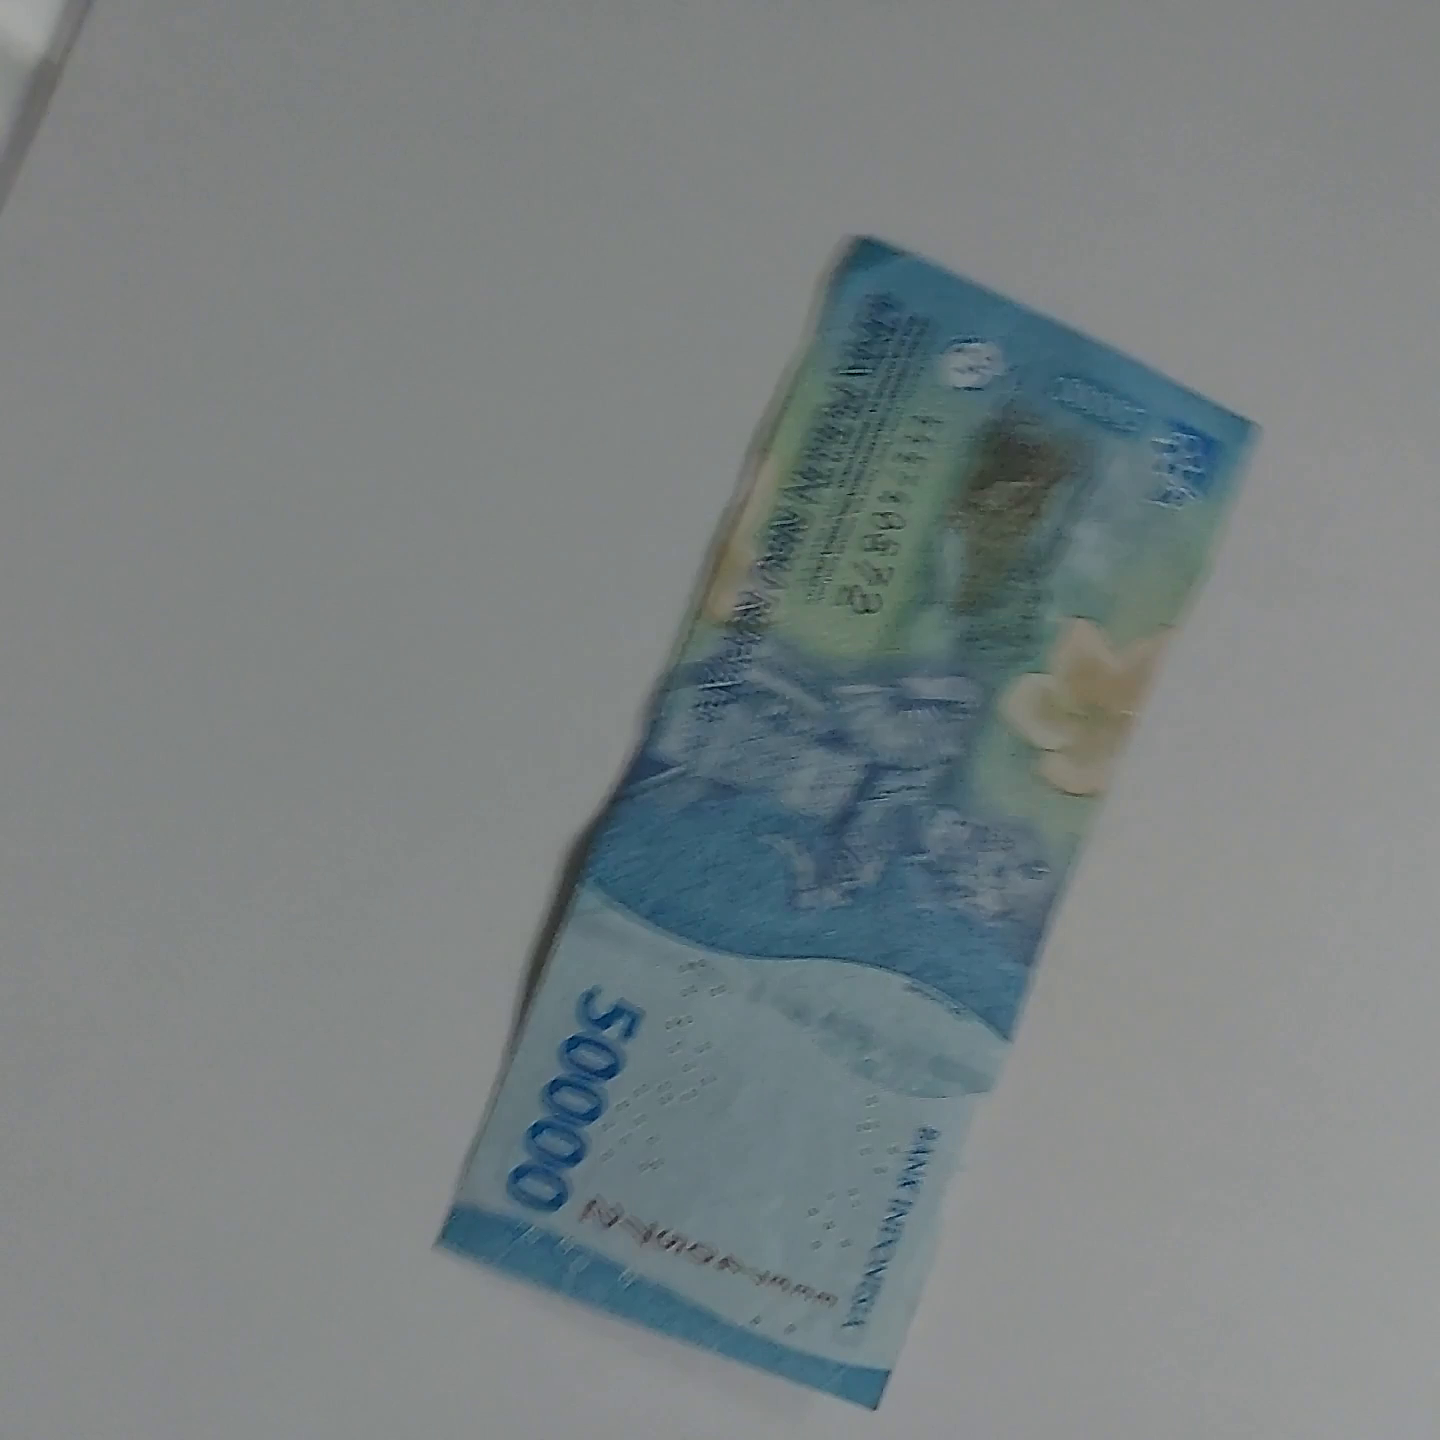50k: (843, 204, 1349, 1331)
